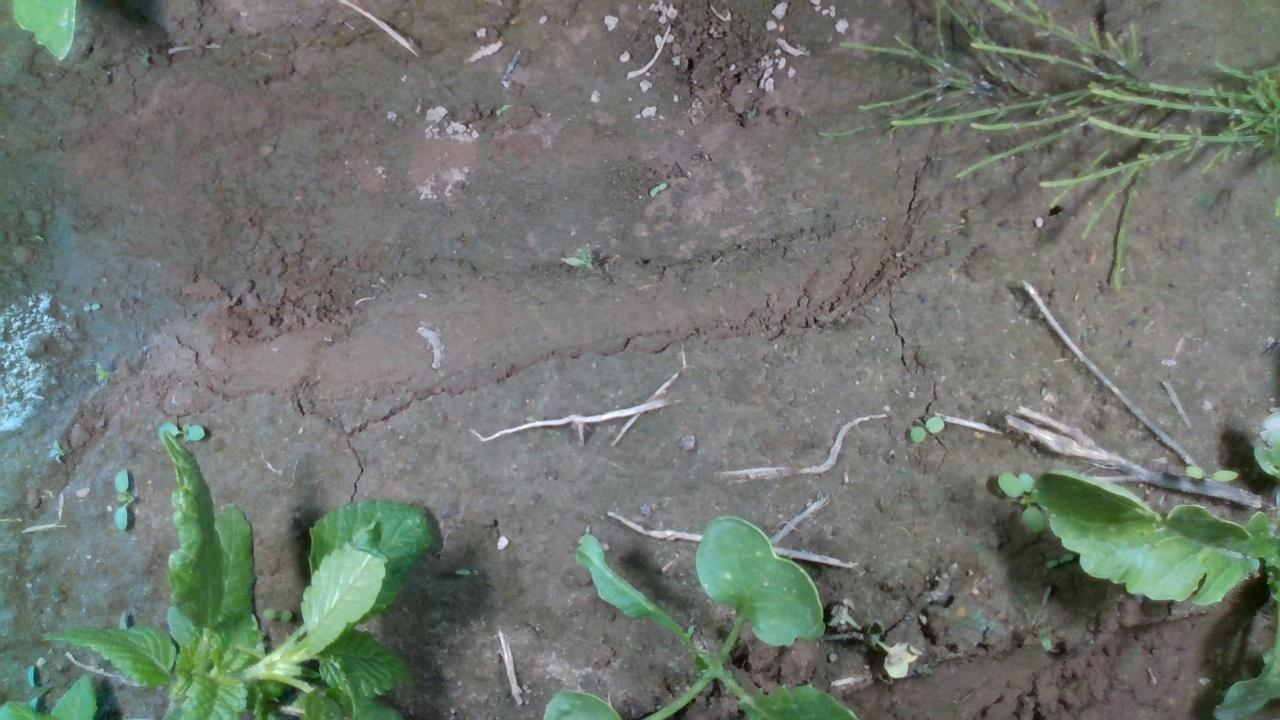weed: (907, 413, 945, 443), (112, 466, 129, 531), (1182, 462, 1238, 480), (452, 564, 481, 577), (77, 300, 101, 312)
